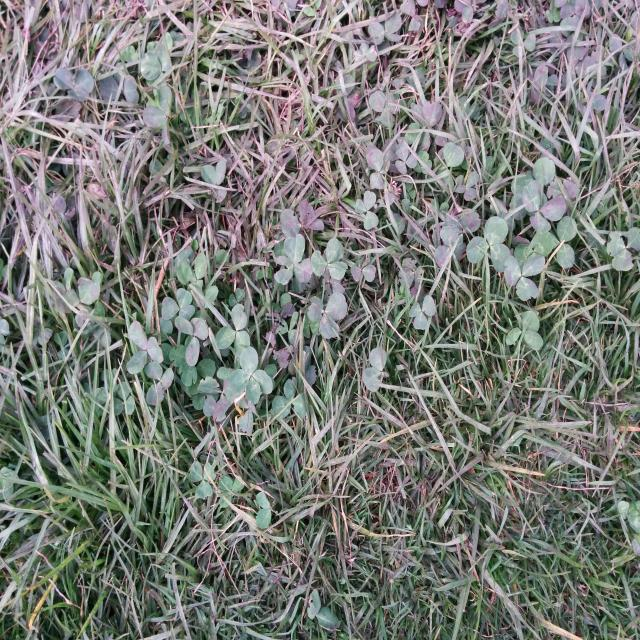Four Leaf Clover: (229, 347, 273, 405)
